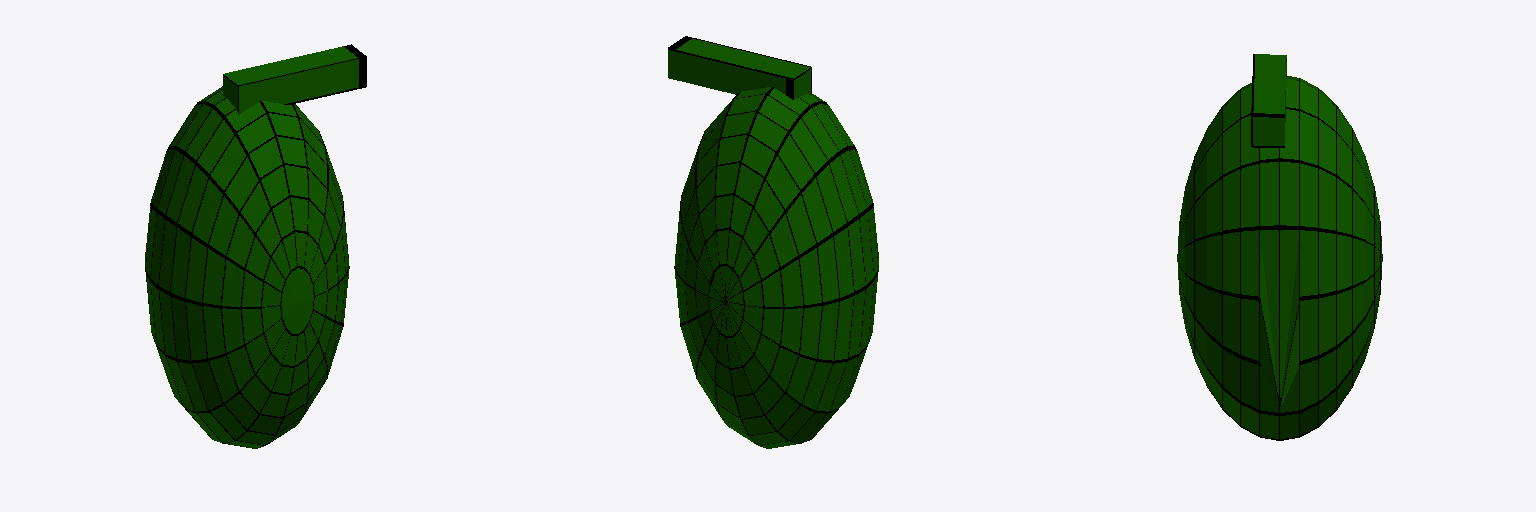
The picture shows the model from 3 angles: view 1: azimuth 30°, elevation 25°; view 2: azimuth 150°, elevation 25°; view 3: azimuth 270°, elevation 25°; orthographic projection.
Bounding box in the file's own units: 0.3754 × 0.6854 × 0.3413.
Materials: 1 (1 with a texture image).